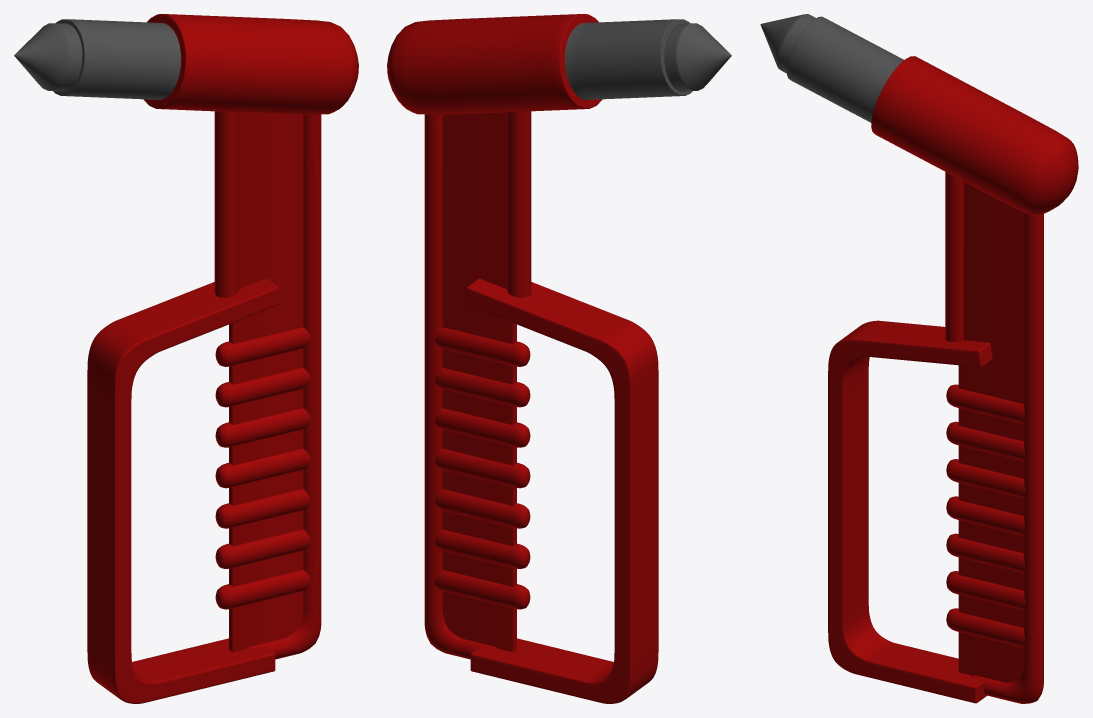
Rendered from 破窗器.FBX.
The picture shows the model from 3 angles, left to right: view 1: azimuth 30°, elevation 25°; view 2: azimuth 150°, elevation 25°; view 3: azimuth 330°, elevation 25°; orthographic projection. The views are drawn at different scales.
Parts seen in each view (by area): view 1: pp0313; view 2: pp0313; view 3: pp0313.
Part boxes in pixels (x1,y1,x2,y2): pp0313: (14,14,358,703); pp0313: (387,14,731,703); pp0313: (760,14,1078,703).
Size of the model in its own units: 59.34 by 115 by 14.57.
